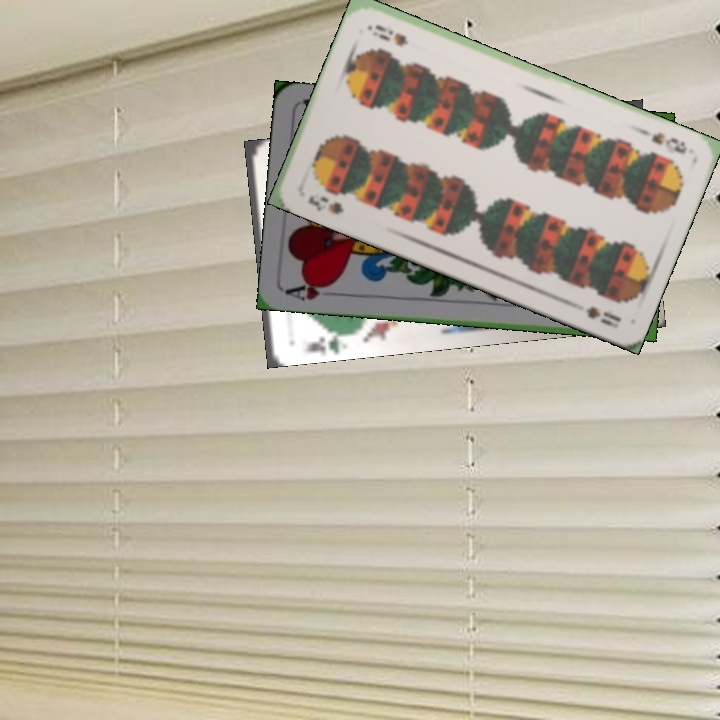GK: (302, 326, 349, 354)
HA: (283, 277, 342, 304)
S8: (636, 125, 690, 157), (303, 191, 347, 217)
